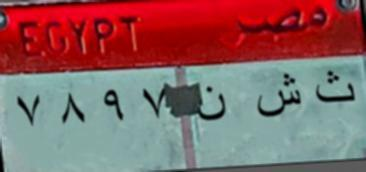7: (14, 90, 45, 133), (138, 85, 168, 123)
8: (56, 92, 88, 130)
9: (100, 86, 127, 128)
noon: (196, 81, 228, 123)
sheen: (250, 74, 304, 120)
thaa: (313, 65, 358, 108)
